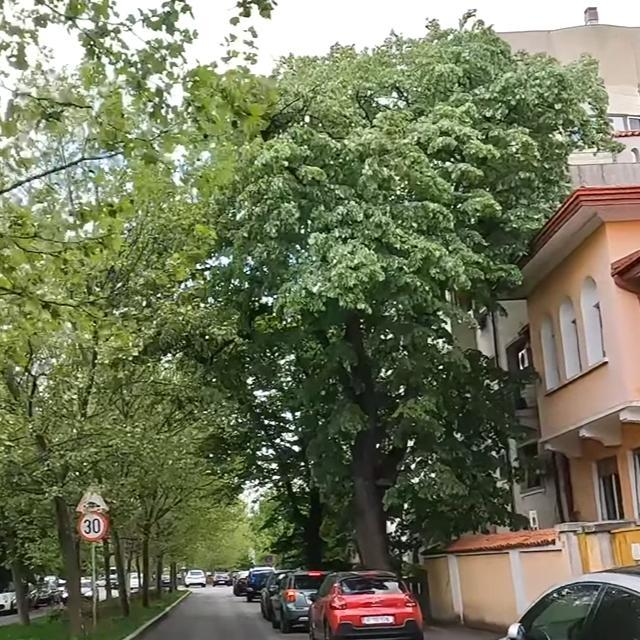forb_speed_over_30: (78, 511, 107, 540)
